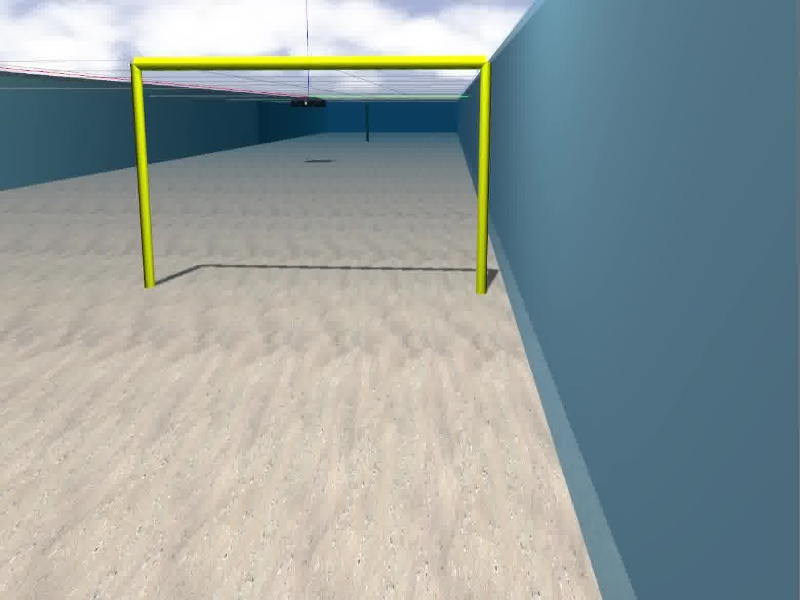gate: (126, 56, 493, 295)
